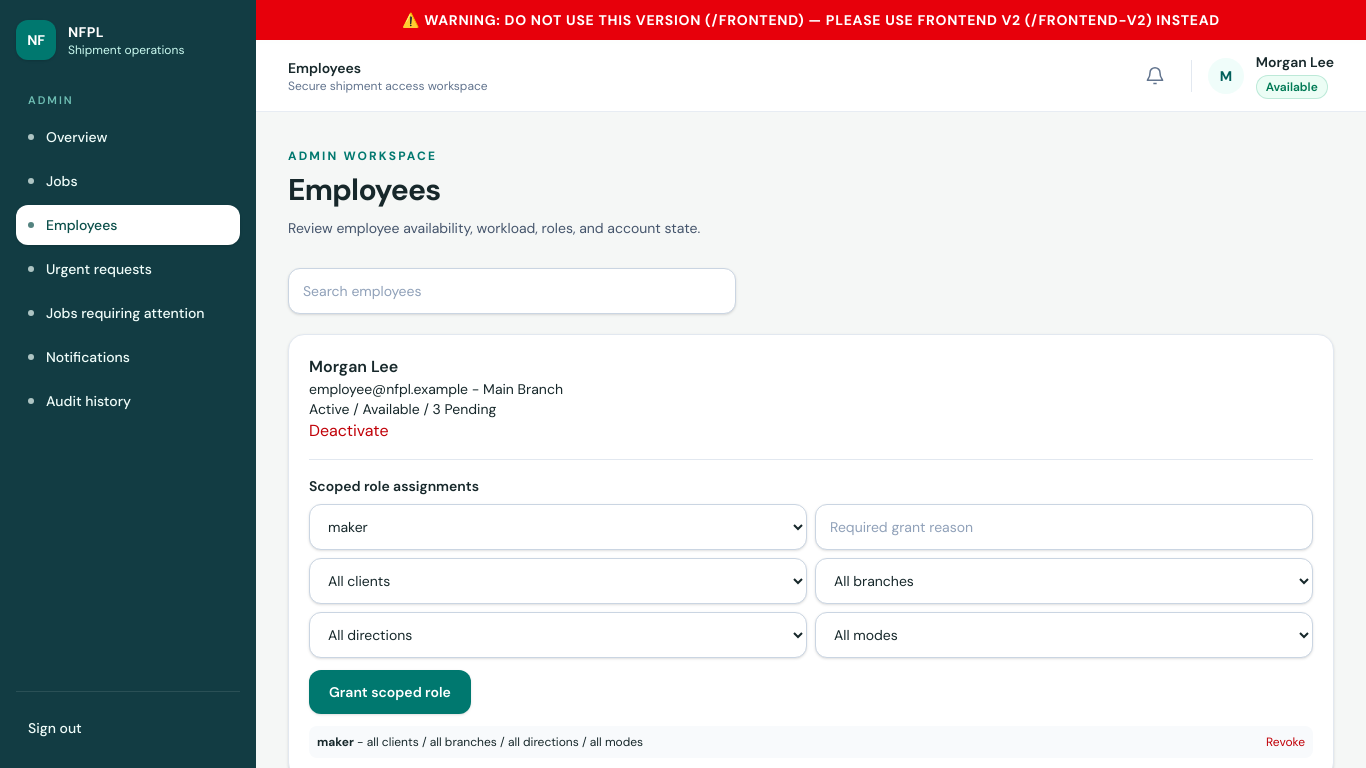
Phase 6B Admin workflows › requires a reason and confirmation before revoking a role assignment
Click the button "Revoke": (1286, 742) x1=1266 y1=734 x2=1305 y2=750
(page scrolled)
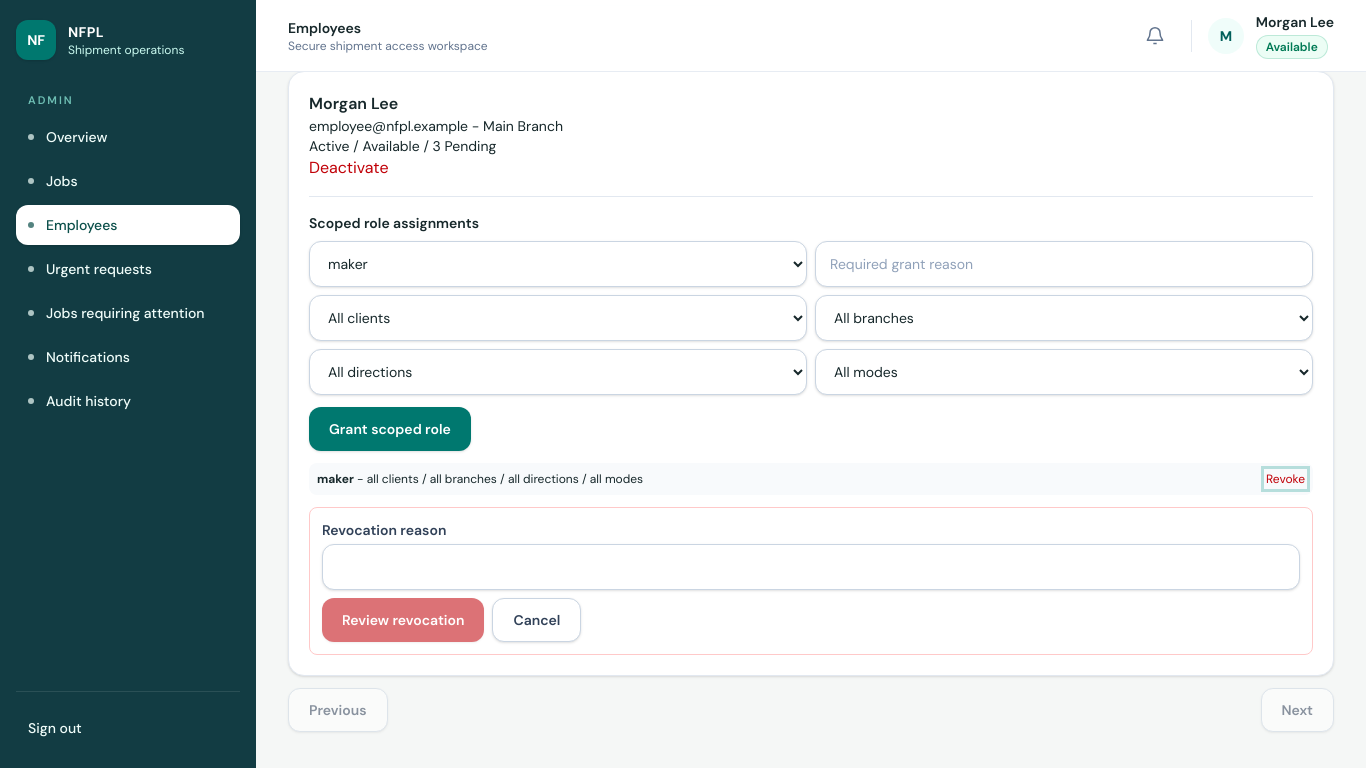
In the field labelled "Revocation reason": (811, 567) x1=322 y1=544 x2=1300 y2=590, type "Scope no longer required"
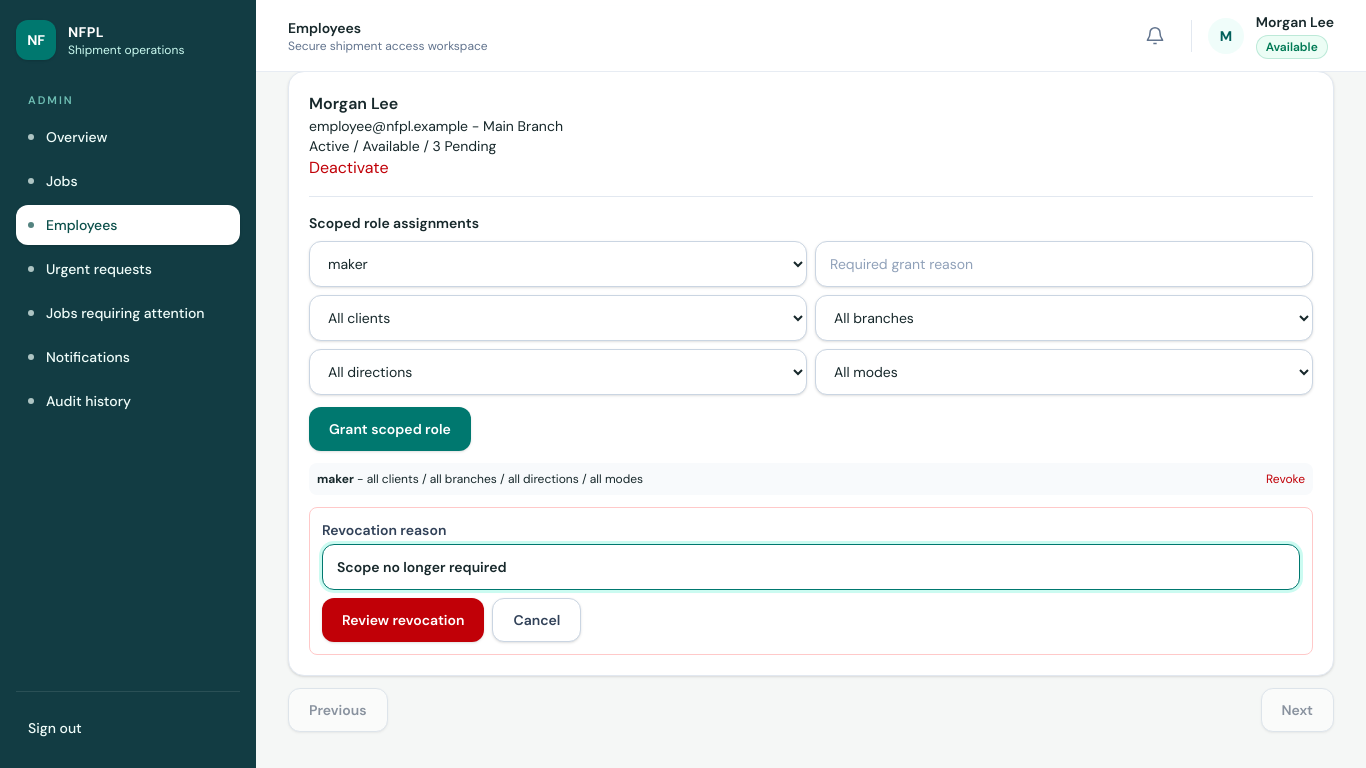
Click the button "Review revocation": (403, 620) x1=322 y1=598 x2=484 y2=642
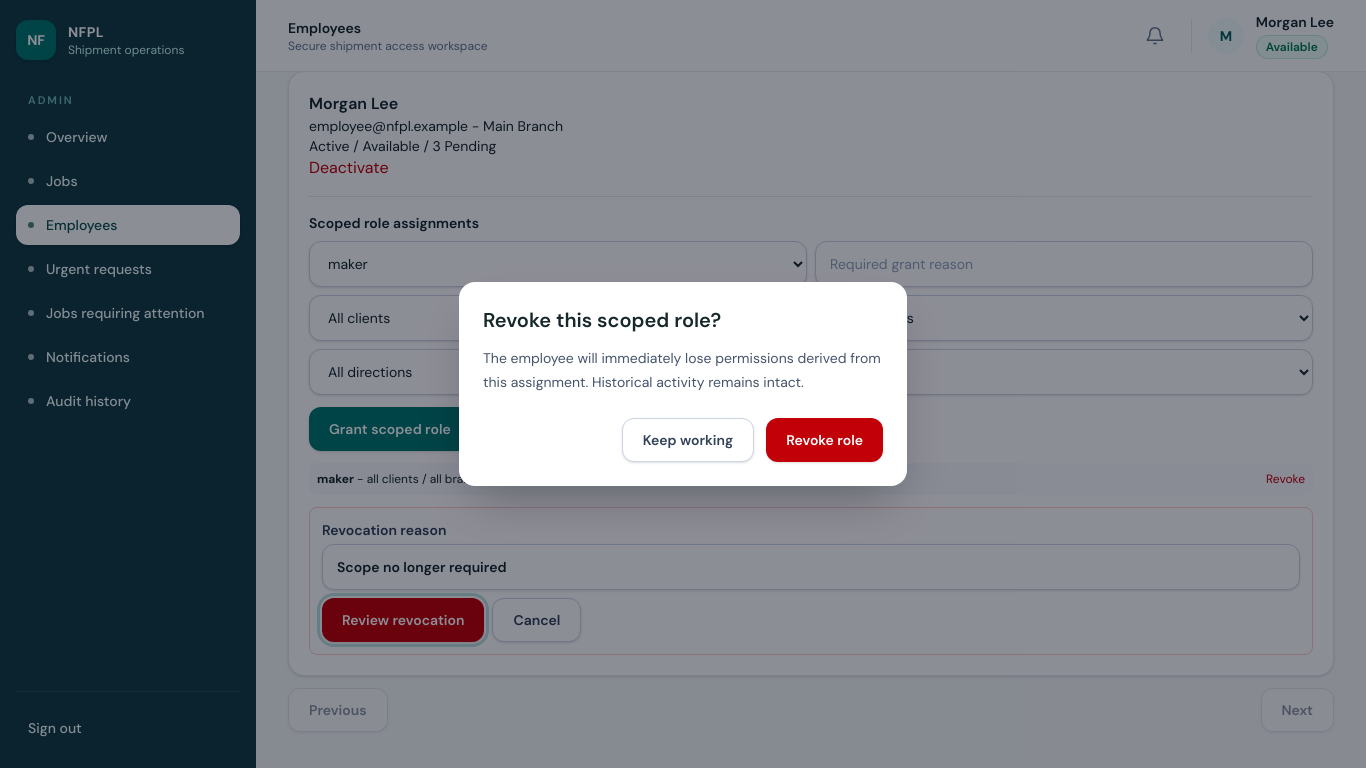
Click the button "Revoke role": (825, 440) x1=766 y1=418 x2=883 y2=462
(page scrolled)
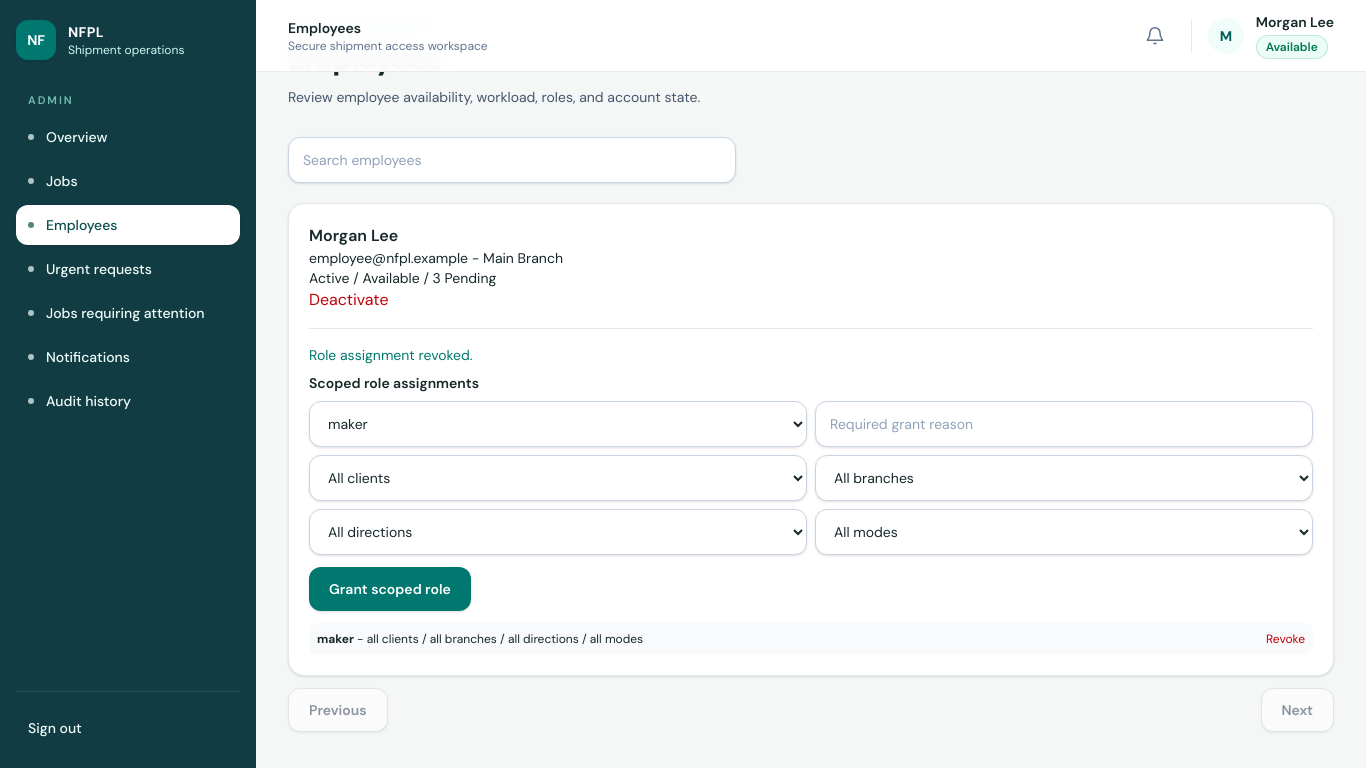
Check: the text "Role assignment revoked." is shown, box x1=309 y1=346 x2=472 y2=364
